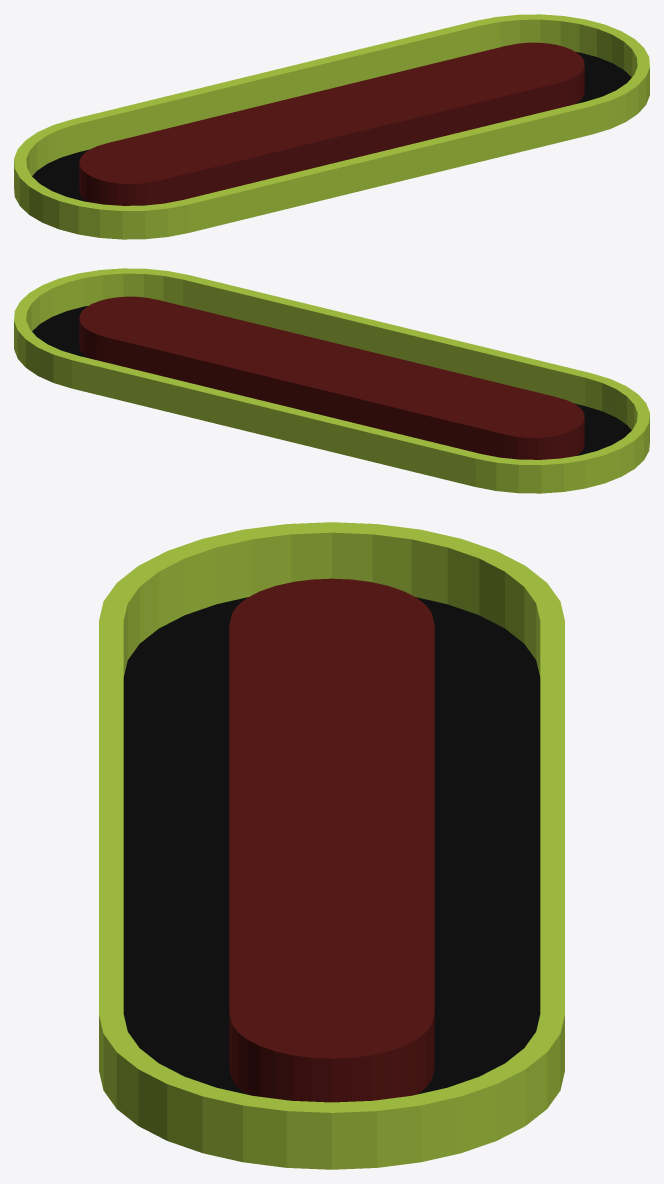
File: track6.obj
3 views of the same model, one above another, from view 1: azimuth 30°, elevation 25°; view 2: azimuth 150°, elevation 25°; view 3: azimuth 270°, elevation 25° (orthographic). The views are drawn at different scales.
Parts seen in each view (by area): view 1: Cube; view 2: Cube; view 3: Cube.
Part boxes in pixels (box(x1,y1,x2,y2)): Cube: box(14, 14, 649, 239); Cube: box(14, 268, 649, 493); Cube: box(99, 522, 564, 1169).
Bounding box in the file's own units: 60 × 2.69 × 20.
